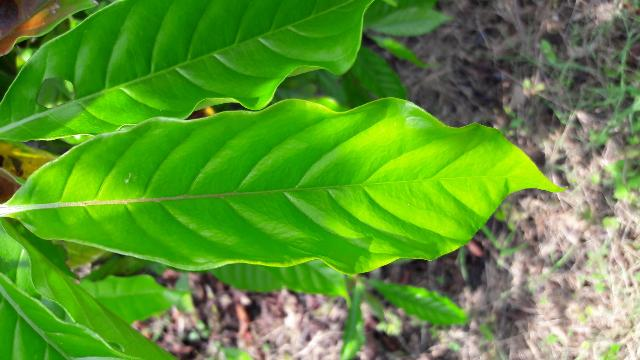healthy: (9, 95, 570, 278)
